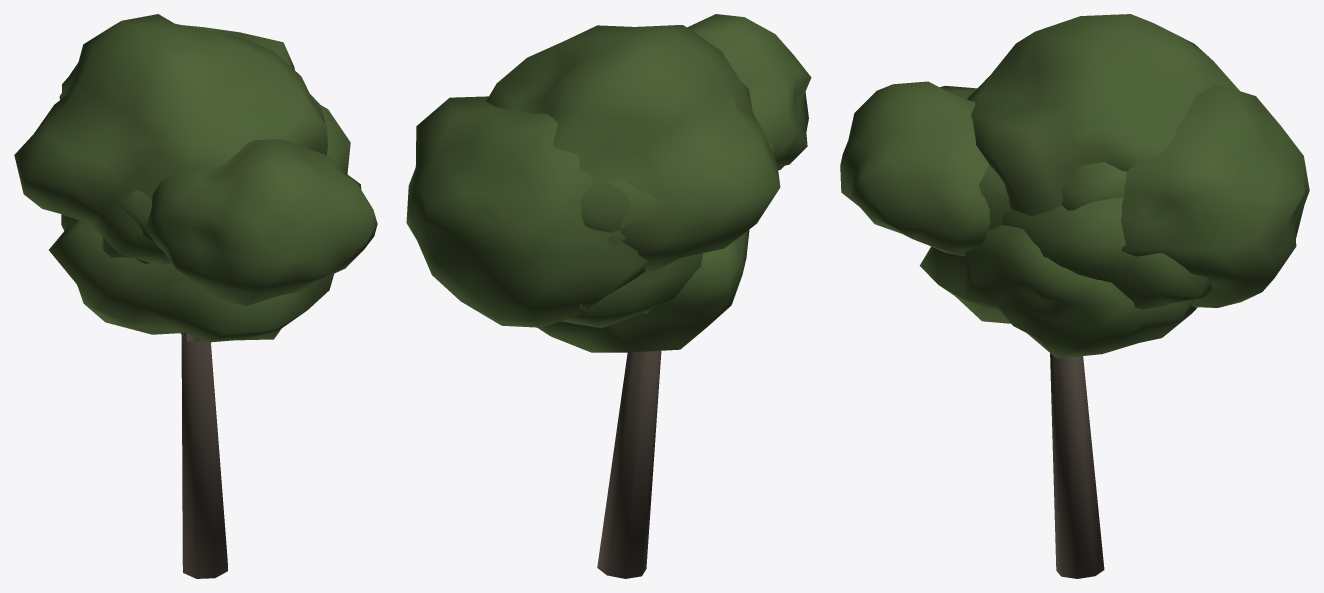
Rendered from tree_oak_02.glb.
The picture shows the model from 3 angles, left to right: view 1: azimuth 30°, elevation 25°; view 2: azimuth 150°, elevation 25°; view 3: azimuth 270°, elevation 25°; orthographic projection. The views are drawn at different scales.
Parts seen in each view (by area): view 1: tree_oak_02; view 2: tree_oak_02; view 3: tree_oak_02.
Part boxes in pixels (bbox=[...]): tree_oak_02: bbox=[14, 14, 377, 578]; tree_oak_02: bbox=[406, 14, 811, 578]; tree_oak_02: bbox=[840, 14, 1309, 578].
Bounding box in the file's own units: 7.19 × 11.81 × 9.38.
